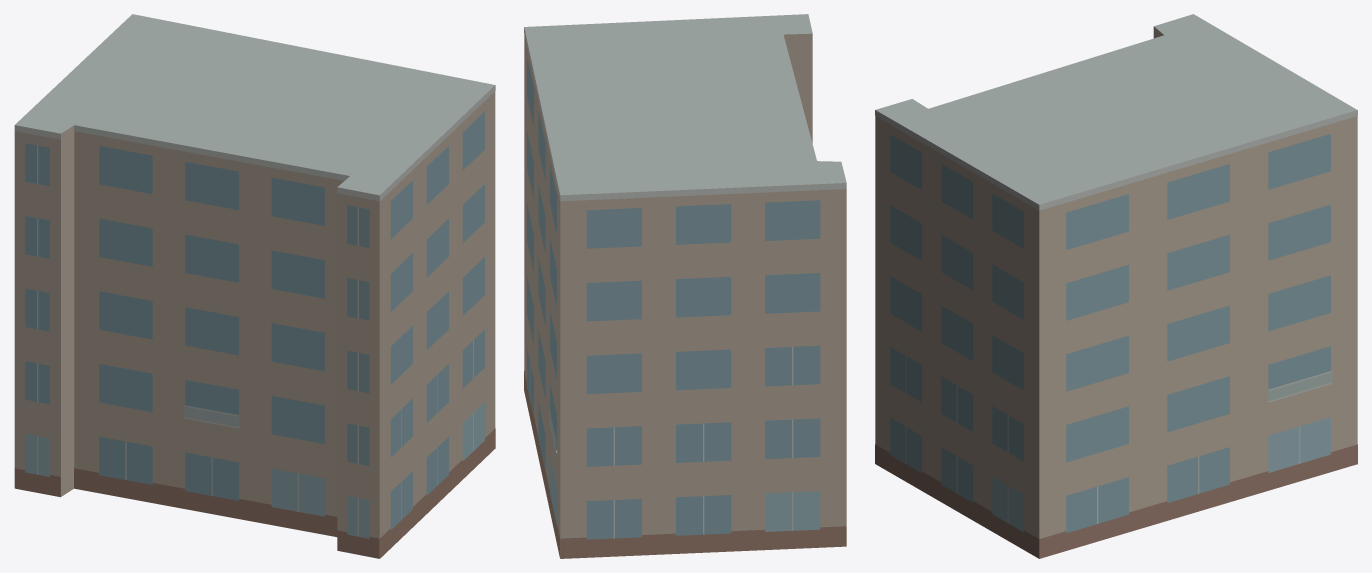
The model's file is survey-upis-32898529.glb.
3 views of the same model, side by side, from view 1: azimuth 30°, elevation 25°; view 2: azimuth 150°, elevation 25°; view 3: azimuth 270°, elevation 25° (orthographic). The views are drawn at different scales.
Visible parts, largest first — view 1: survey-upis-32898529.tmp; view 2: survey-upis-32898529.tmp; view 3: survey-upis-32898529.tmp.
Part boxes in pixels (<box>): survey-upis-32898529.tmp: <box>14,14,495,558</box>; survey-upis-32898529.tmp: <box>524,14,846,558</box>; survey-upis-32898529.tmp: <box>875,14,1357,558</box>.
Size of the model in its own units: 17.01 by 14.7 by 18.17.
